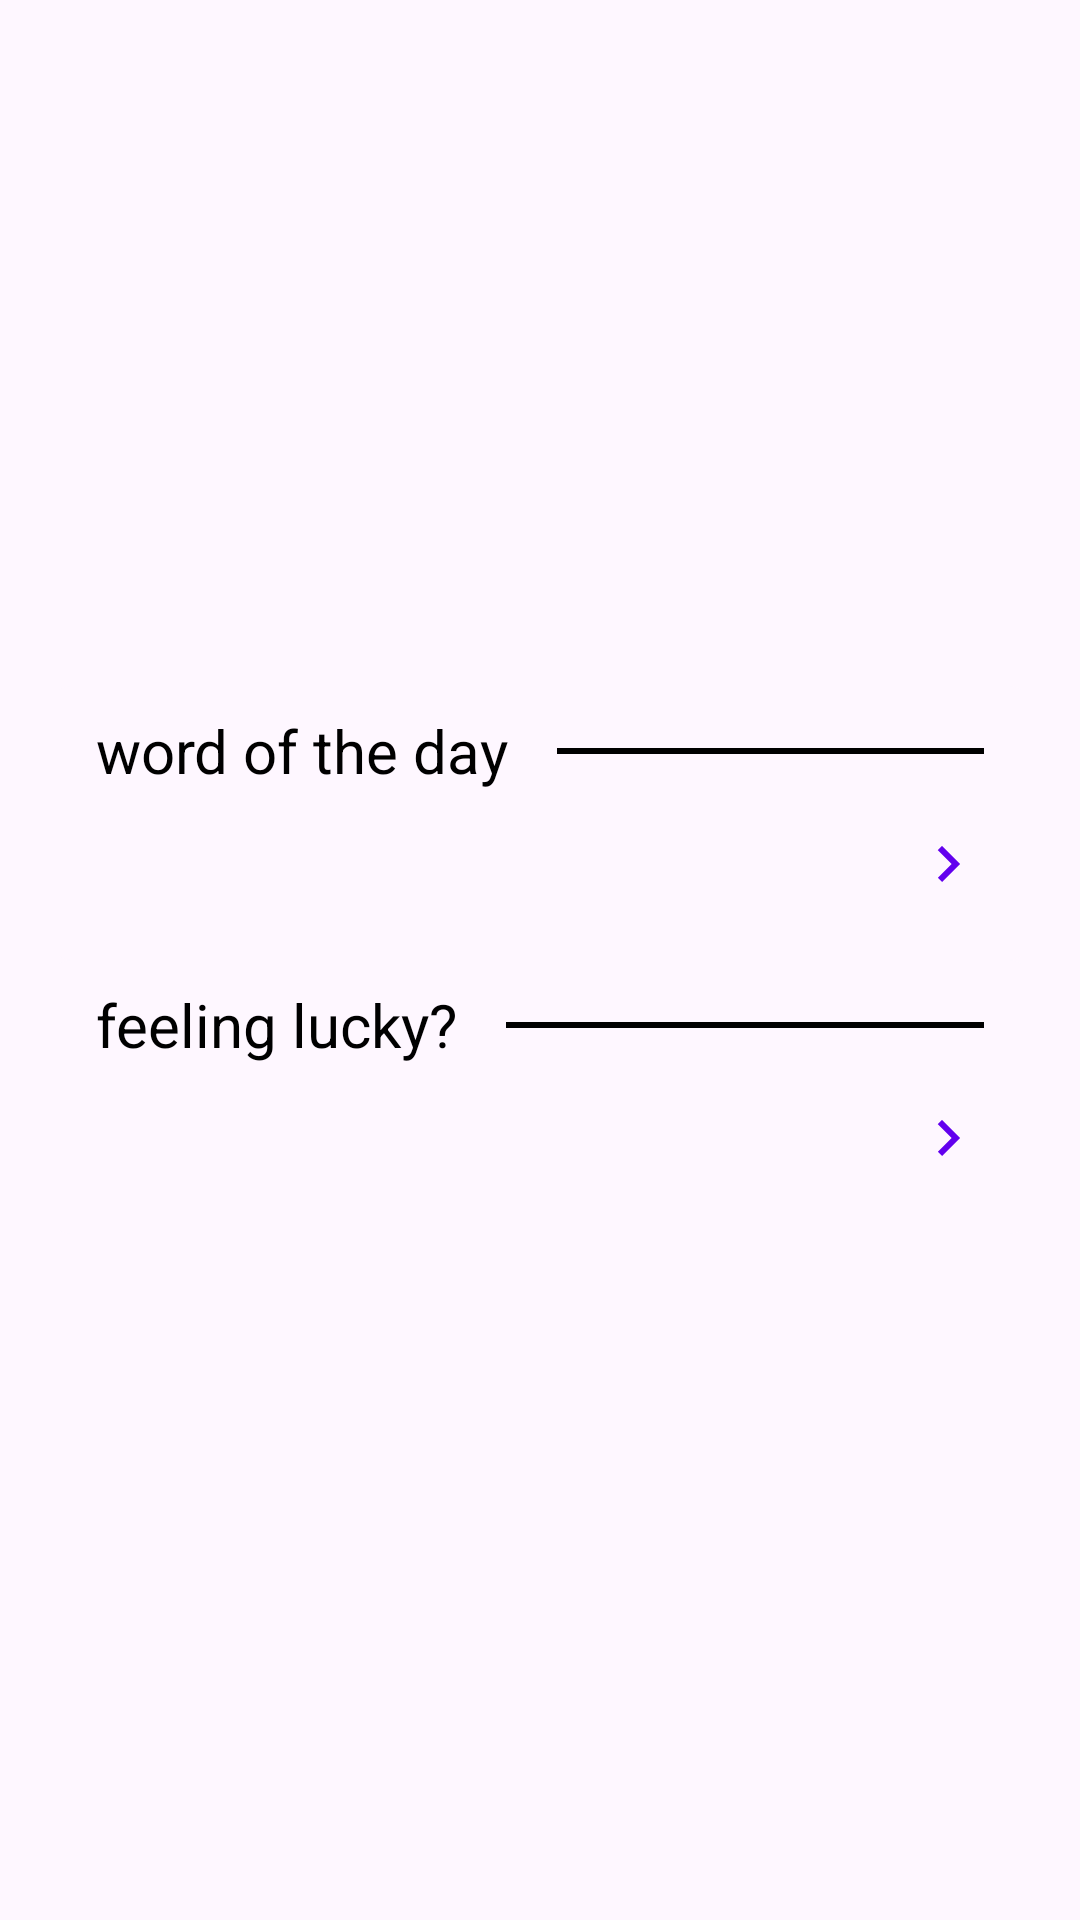

Screen size 1080 × 1920. Icon name, then its center in pixels as (x=x, y=y):
keyboard arrow right: (x=949, y=864), (x=949, y=1138)
